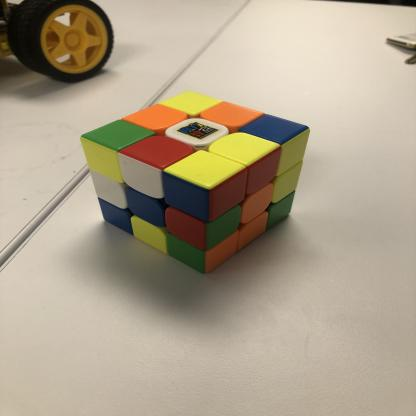UnsolvedCube: (74, 90, 314, 277)
